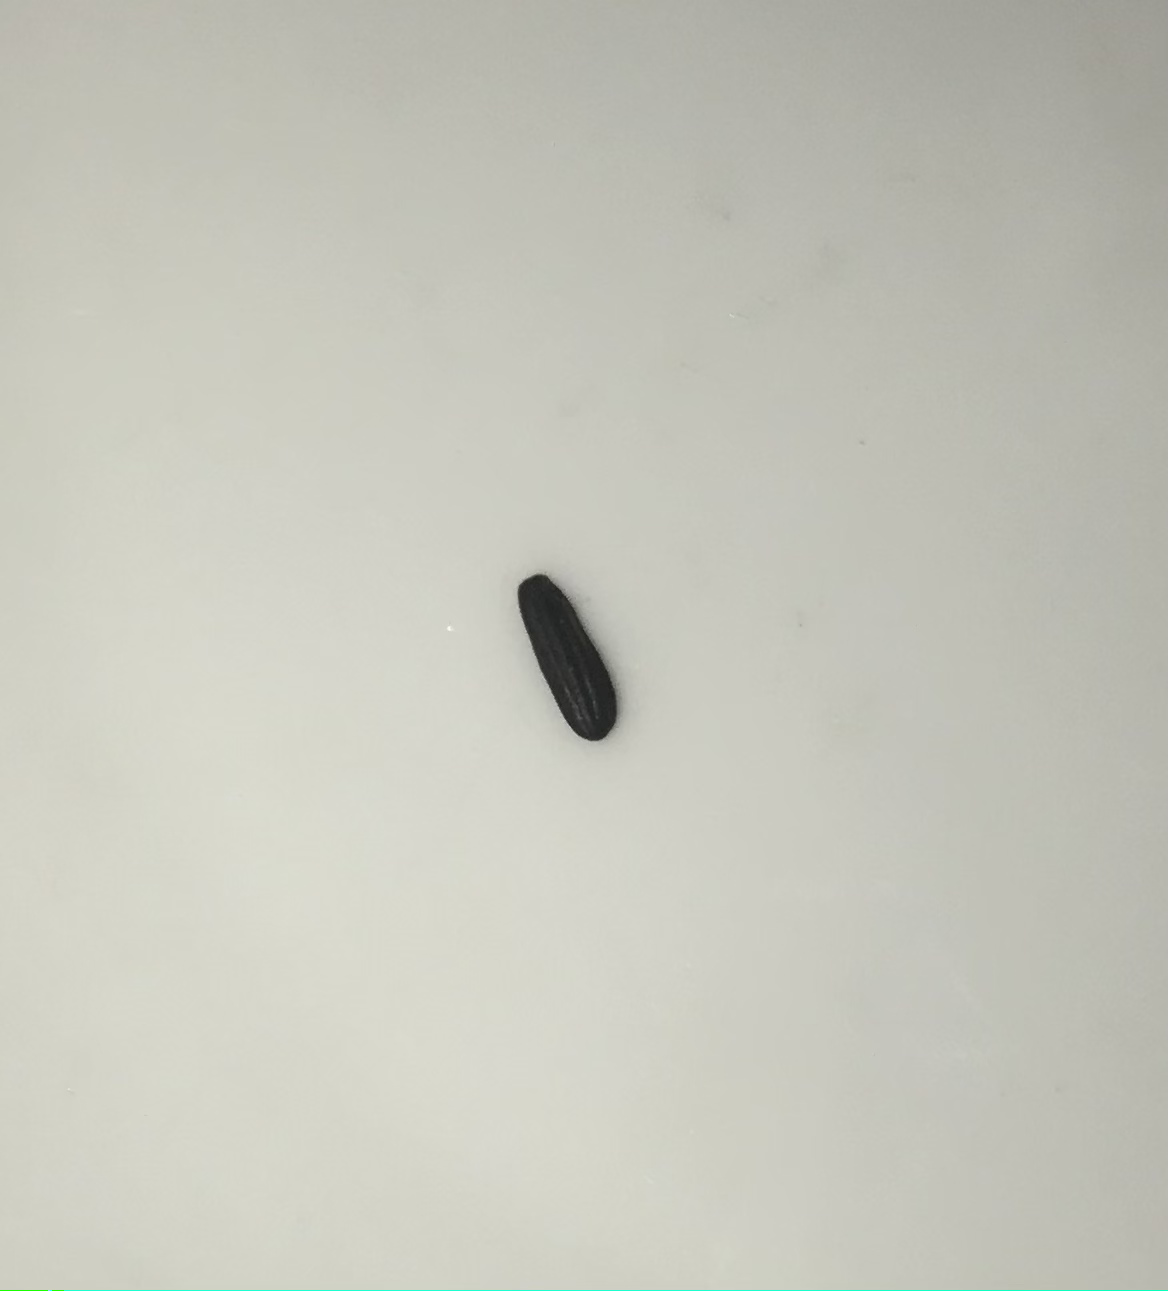Gao Nep Cam: (507, 558, 635, 751)
